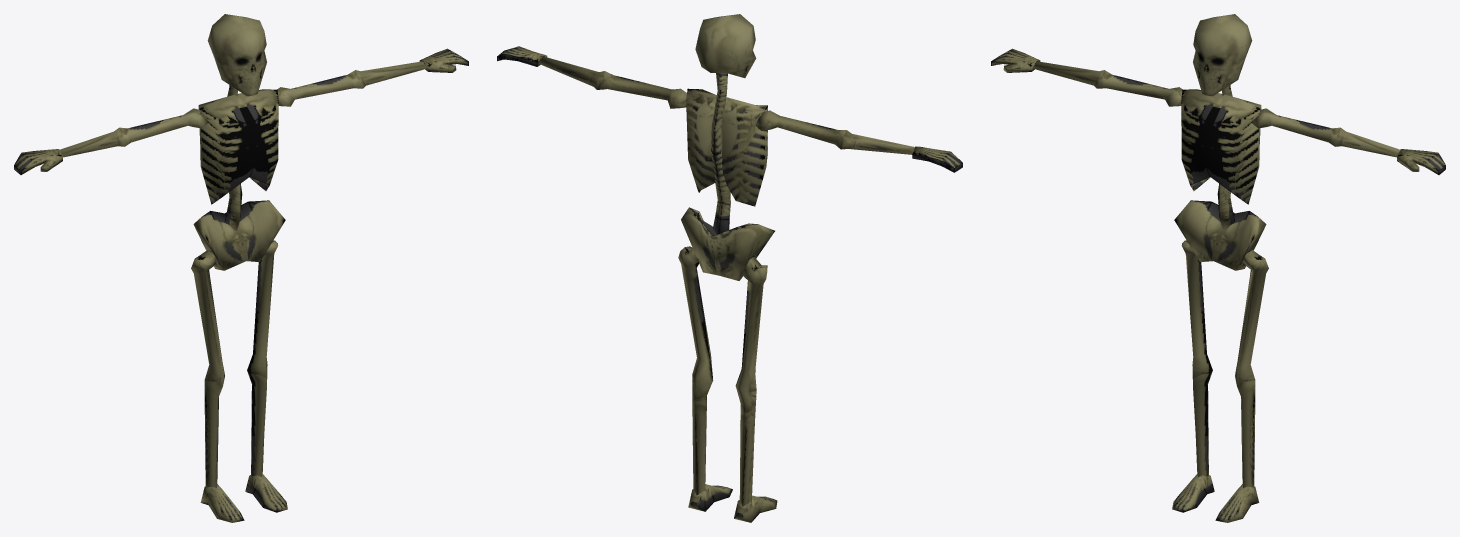
File: skeleton_player_painted.glb
3 views of the same model, side by side, from view 1: azimuth 30°, elevation 25°; view 2: azimuth 150°, elevation 25°; view 3: azimuth 330°, elevation 25° (orthographic). The views are drawn at different scales.
Parts seen in each view (by area): view 1: Ribcage, Legs, Arms, Hips, Skull, Foot.001, Hand.001, Spine; view 2: Legs, Ribcage, Arms, Hips, Skull, Spine, Foot.001, Hand.001; view 3: Ribcage, Legs, Arms, Hips, Skull, Foot.001, Hand.001, Spine.
Boxes of the visible parts, x1=… form: Ribcage: x1=198, y1=89, x2=278, y2=204; Legs: x1=191, y1=240, x2=278, y2=487; Arms: x1=60, y1=61, x2=427, y2=157; Hips: x1=193, y1=200, x2=285, y2=270; Skull: x1=207, y1=14, x2=266, y2=96; Foot.001: x1=200, y1=474, x2=287, y2=522; Hand.001: x1=14, y1=48, x2=468, y2=174; Spine: x1=225, y1=85, x2=242, y2=230; Legs: x1=678, y1=246, x2=767, y2=506; Ribcage: x1=686, y1=88, x2=767, y2=206; Arms: x1=538, y1=56, x2=914, y2=154; Hips: x1=681, y1=207, x2=774, y2=280; Skull: x1=695, y1=14, x2=756, y2=77; Spine: x1=710, y1=73, x2=730, y2=234; Foot.001: x1=688, y1=484, x2=777, y2=522; Hand.001: x1=497, y1=46, x2=962, y2=172; Ribcage: x1=1181, y1=89, x2=1261, y2=204; Legs: x1=1181, y1=240, x2=1268, y2=487; Arms: x1=1032, y1=61, x2=1399, y2=157; Hips: x1=1174, y1=200, x2=1266, y2=270; Skull: x1=1193, y1=14, x2=1252, y2=96; Foot.001: x1=1172, y1=474, x2=1259, y2=522; Hand.001: x1=991, y1=48, x2=1445, y2=174; Spine: x1=1217, y1=85, x2=1234, y2=230.
Size of the model in its own units: 14.9 by 15.36 by 2.23.
1 material, 1 textured.
